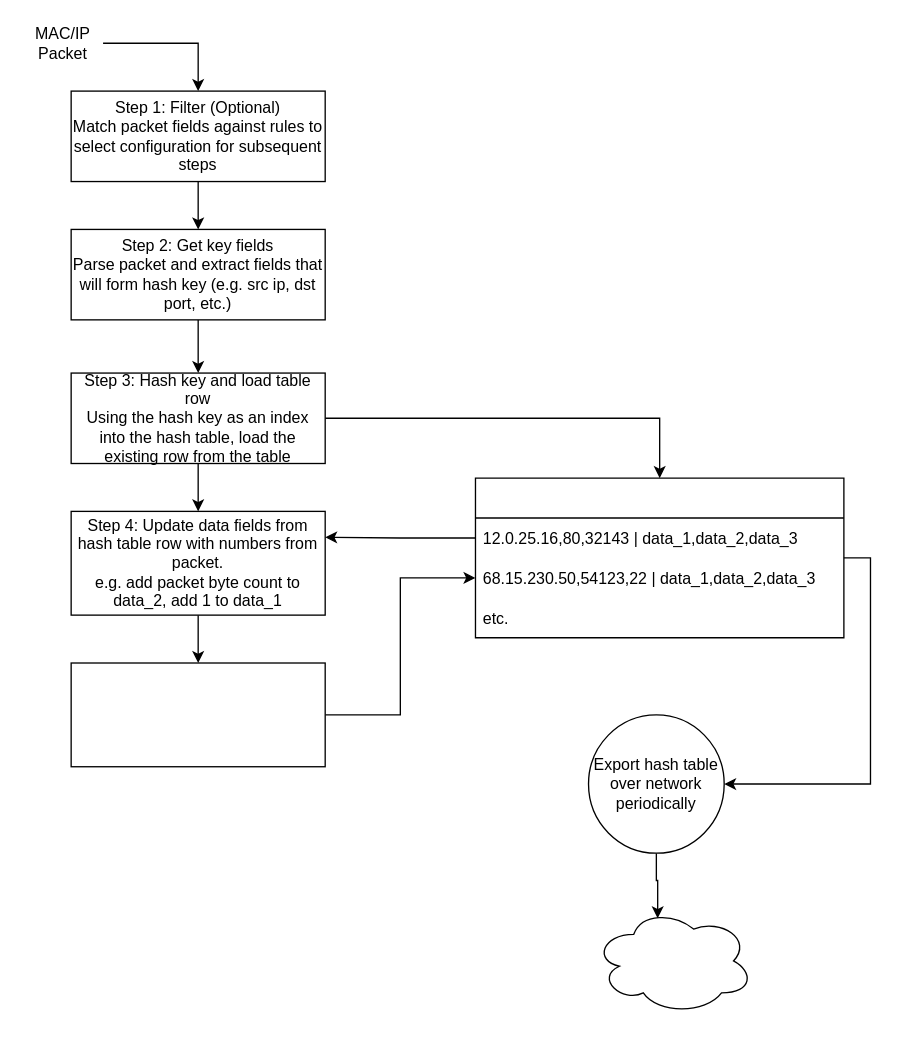
The diagram is 904 pixels wide and 1037 high, and some of its shapes have lost their labels. The shapes that lost their labels are listed below. From the top down, each one's box as (x1, y1, x2, y2) in pixels, then its label:
(474, 477, 844, 638): Hash Table
(70, 662, 325, 767): Step 5: Updated row back to hash table
(593, 906, 753, 1014): Collection Server
